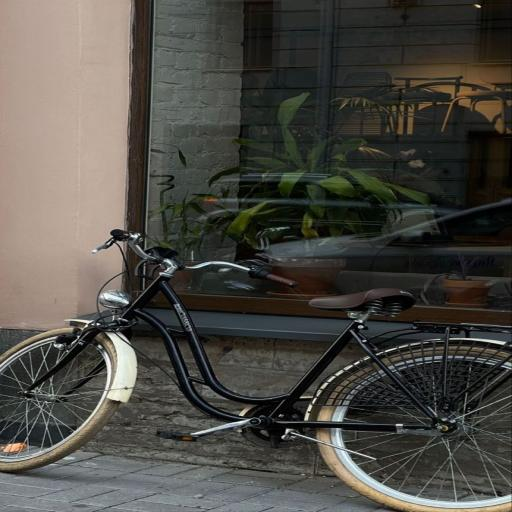bag: (0, 230, 511, 511)
elevator: (146, 0, 511, 311)
